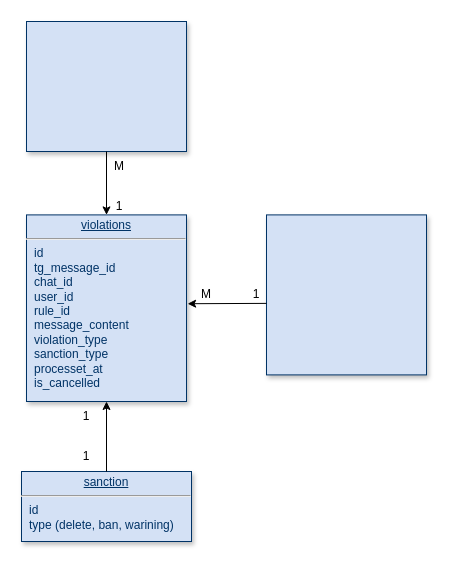
Image size: 450x566. Some labels were removed from this diagram. Here are the shapes that lost their labels. From the top down, the centre of each, then its label:
the point at 107,87: сhats id tg_chat_id name bot_is_active shedule settings
the point at 347,296: users id tg_user_id username full_name
